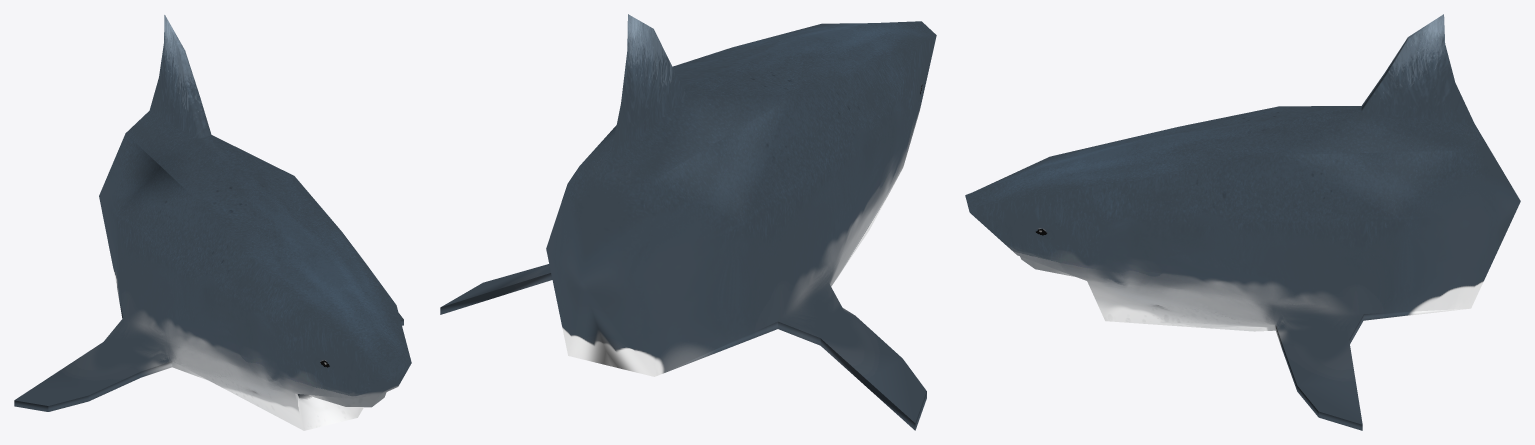
The model's file is SharkBody.obj.
The picture shows the model from 3 angles, left to right: view 1: azimuth 30°, elevation 25°; view 2: azimuth 150°, elevation 25°; view 3: azimuth 270°, elevation 25°; orthographic projection. The views are drawn at different scales.
Visible parts, largest first — view 1: SharkBody:Mesh; view 2: SharkBody:Mesh; view 3: SharkBody:Mesh.
Part boxes in pixels (bbox=[...]): SharkBody:Mesh: bbox=[14, 15, 411, 430]; SharkBody:Mesh: bbox=[440, 14, 936, 430]; SharkBody:Mesh: bbox=[965, 14, 1520, 430].
Bounding box in the file's own units: 46.74 × 37.18 × 58.07.
1 material, 1 textured.
